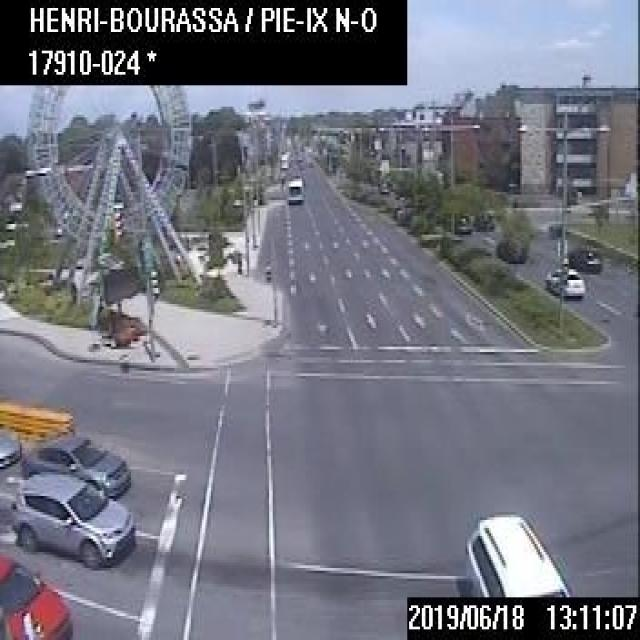bus: (286, 178, 302, 202)
construction: (103, 266, 137, 344)
vehicle: (11, 472, 134, 568), (462, 509, 573, 595), (20, 434, 128, 495), (0, 558, 71, 638), (544, 267, 584, 293), (566, 245, 601, 271), (494, 237, 526, 261), (0, 432, 18, 467), (472, 210, 493, 228), (451, 216, 471, 232)
